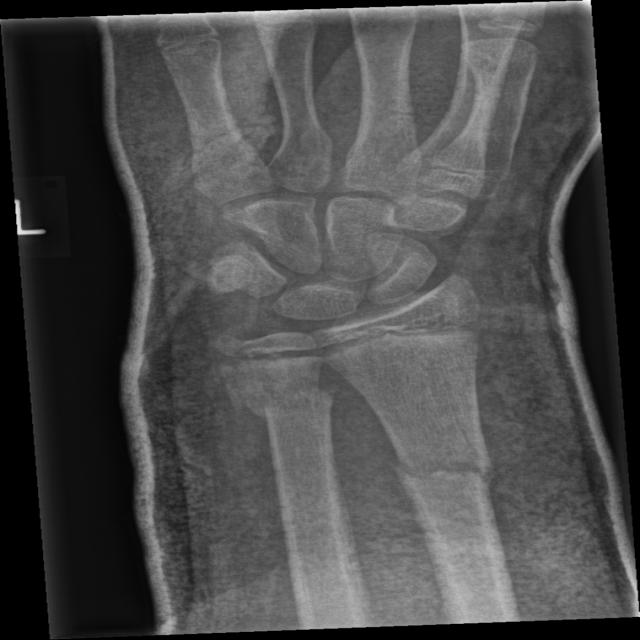radius fracture: (360, 410, 546, 549)
ulna fracture: (198, 363, 347, 495)
